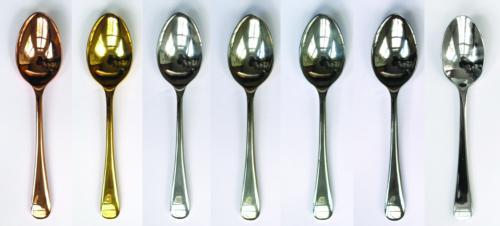Spoon: (227, 14, 275, 222), (15, 12, 63, 220), (371, 13, 418, 222), (156, 12, 203, 220), (86, 12, 133, 220), (299, 13, 346, 220), (441, 15, 485, 220)
